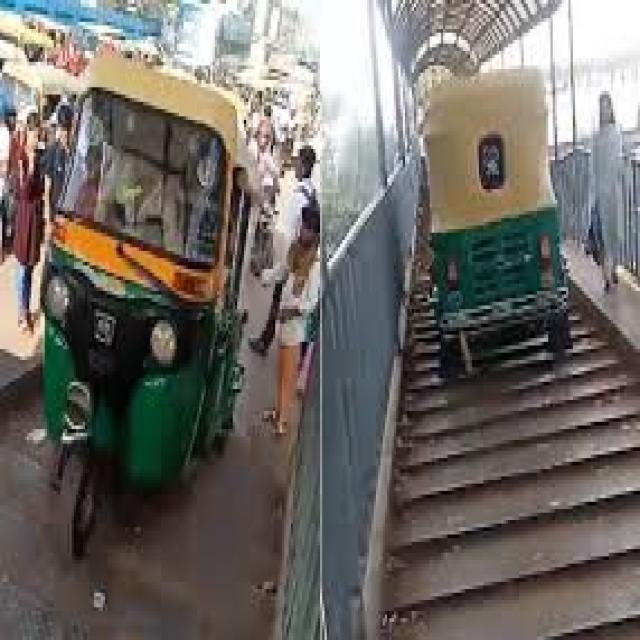person: (277, 145, 318, 433), (11, 124, 43, 331), (593, 95, 618, 291), (43, 98, 72, 215)
three wheeler: (43, 55, 253, 604), (427, 69, 566, 375)
